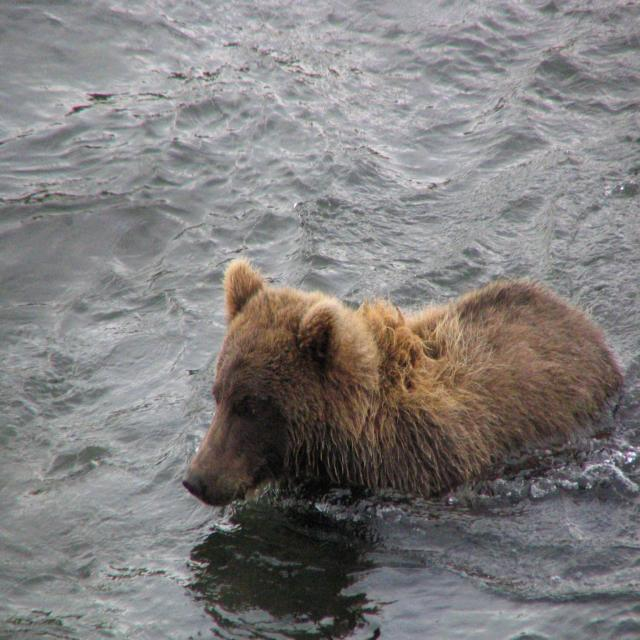bear face: (180, 252, 627, 509)
